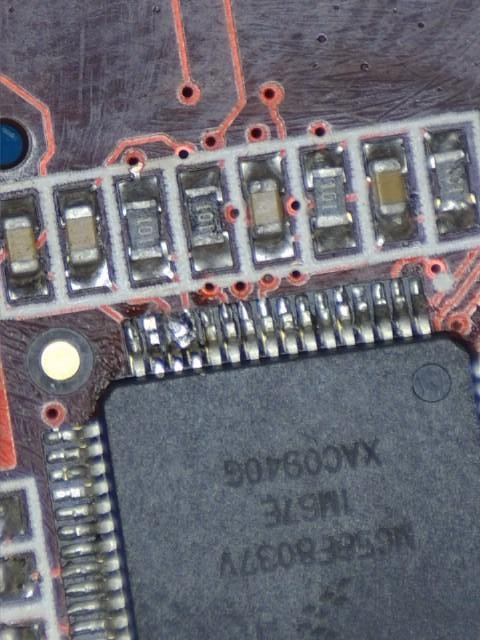pcb_defect: (167, 311, 203, 372)
